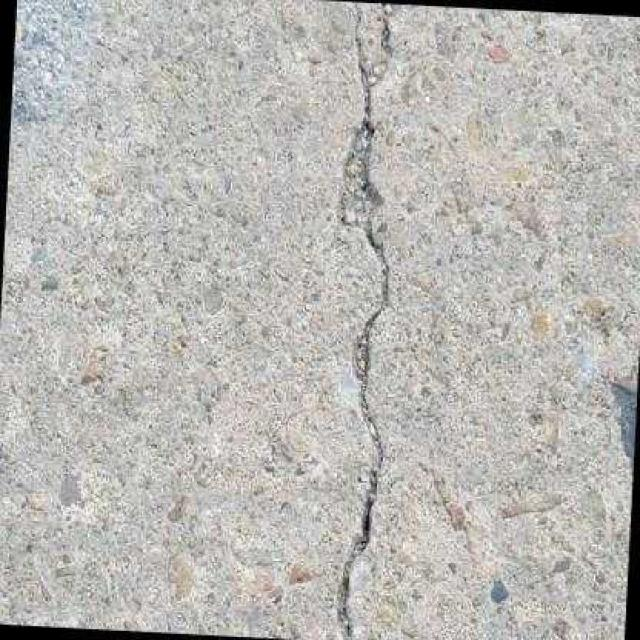D00: (335, 3, 388, 640)
